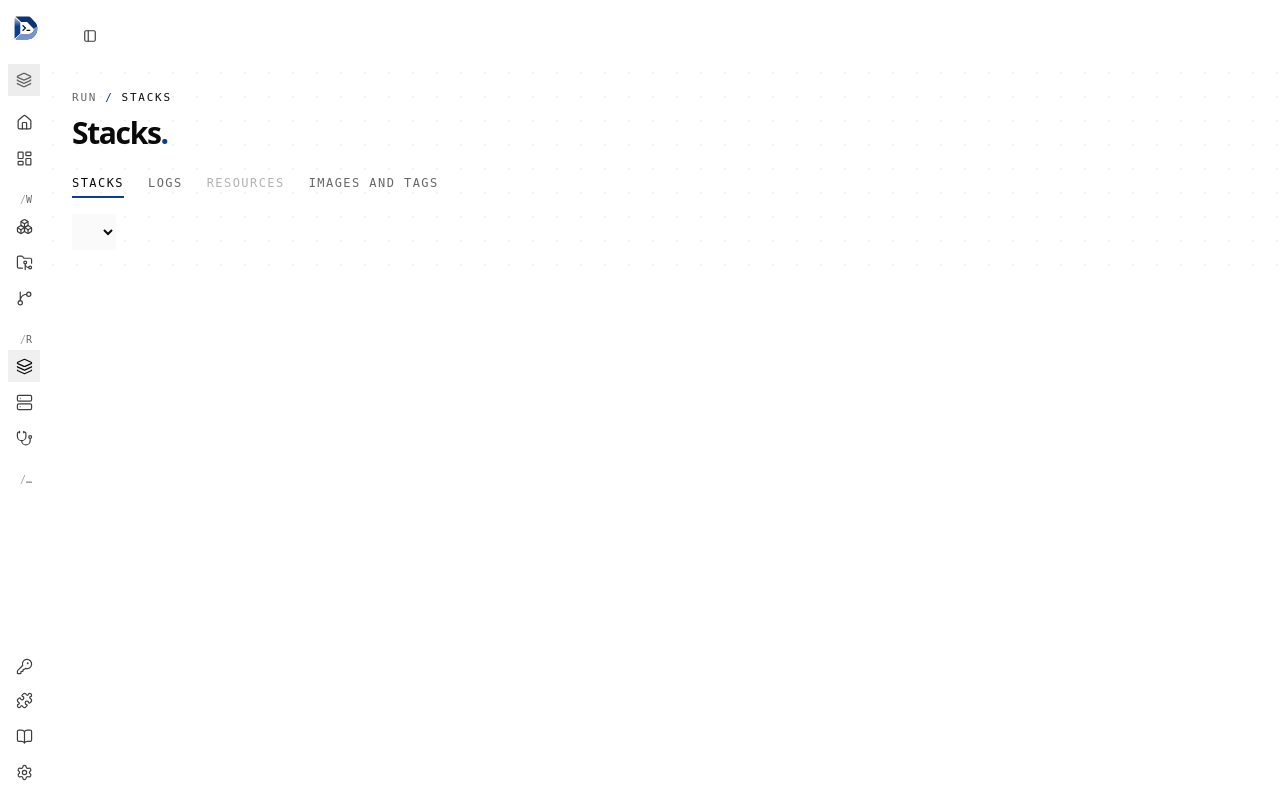
pages › reaches every page of a group from the folded rail's flyout
Expected: the heading "Stacks" is shown, [72, 116, 168, 150]
Click the button named "Run pages" at point(26, 340), box [10, 330, 42, 350]
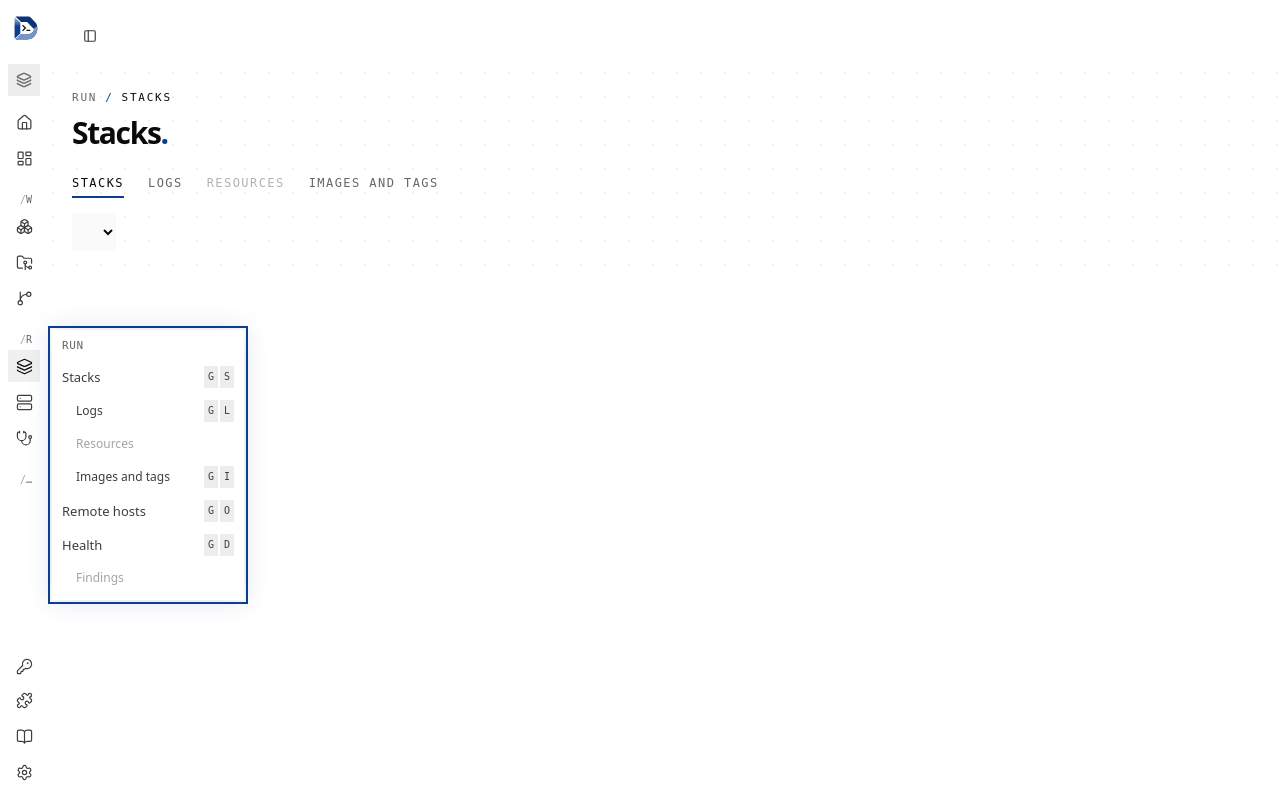
Now the link "Images and tags G I" is shown, box [76, 466, 234, 488]
